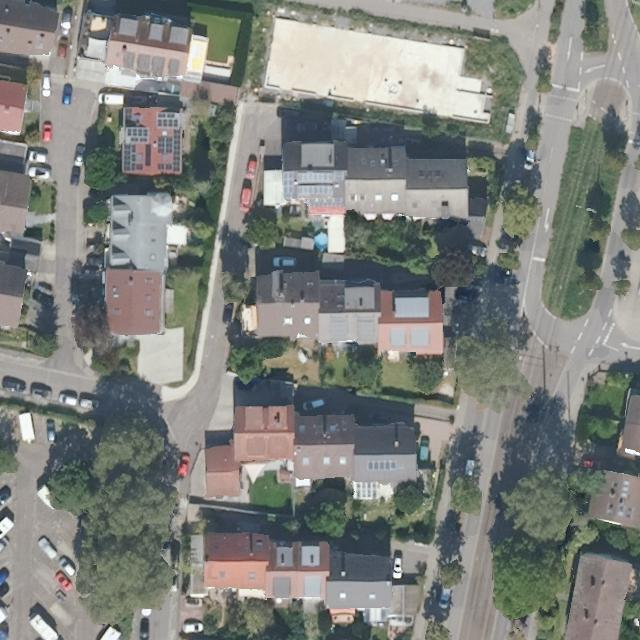PV: (154, 126, 184, 173), (294, 171, 341, 186), (123, 124, 152, 144), (120, 140, 137, 174), (154, 110, 184, 129), (296, 184, 335, 198), (279, 171, 298, 199)
